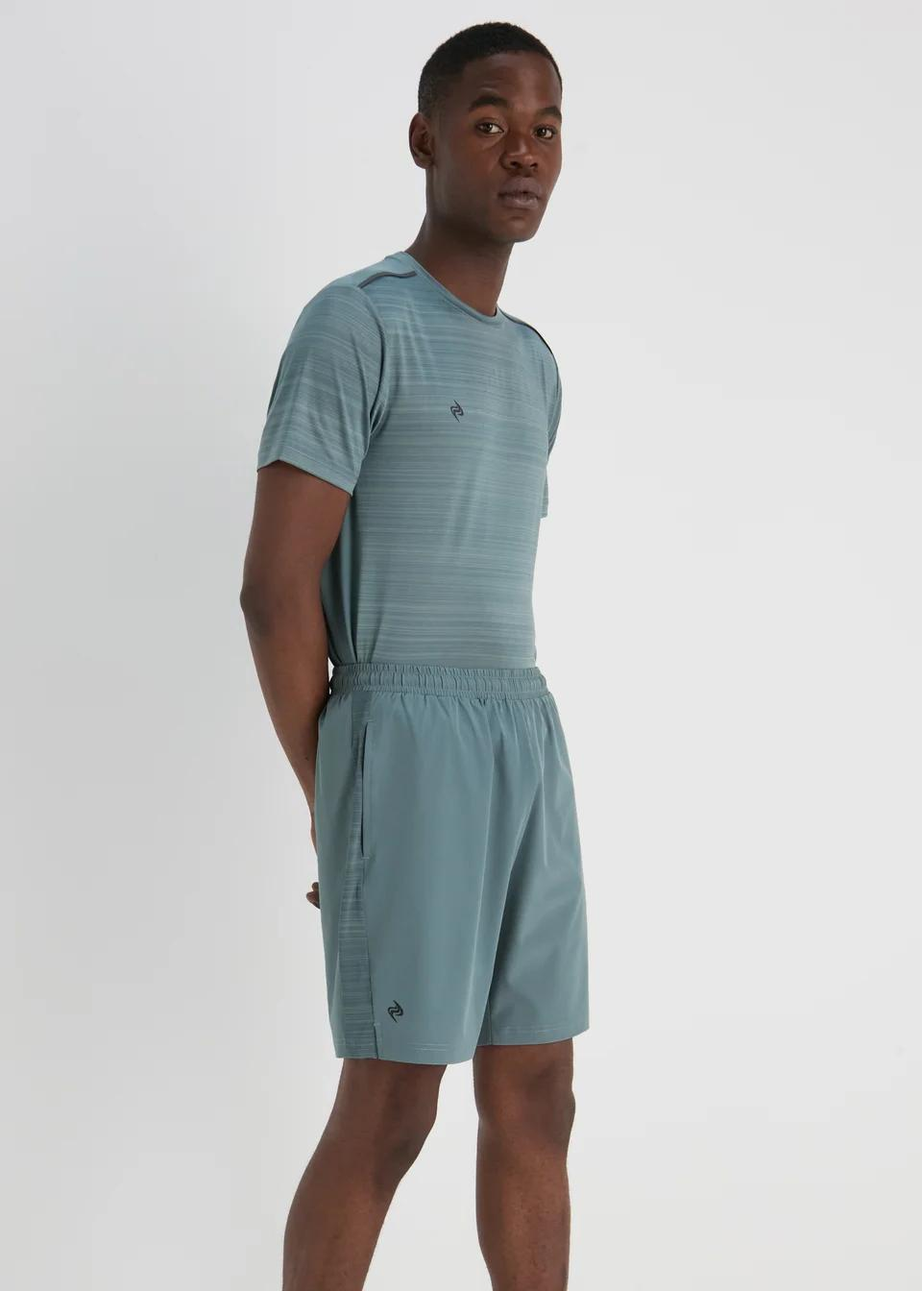Shorts: (314, 658, 594, 1076)
short sleeve shirt: (253, 248, 565, 679)
